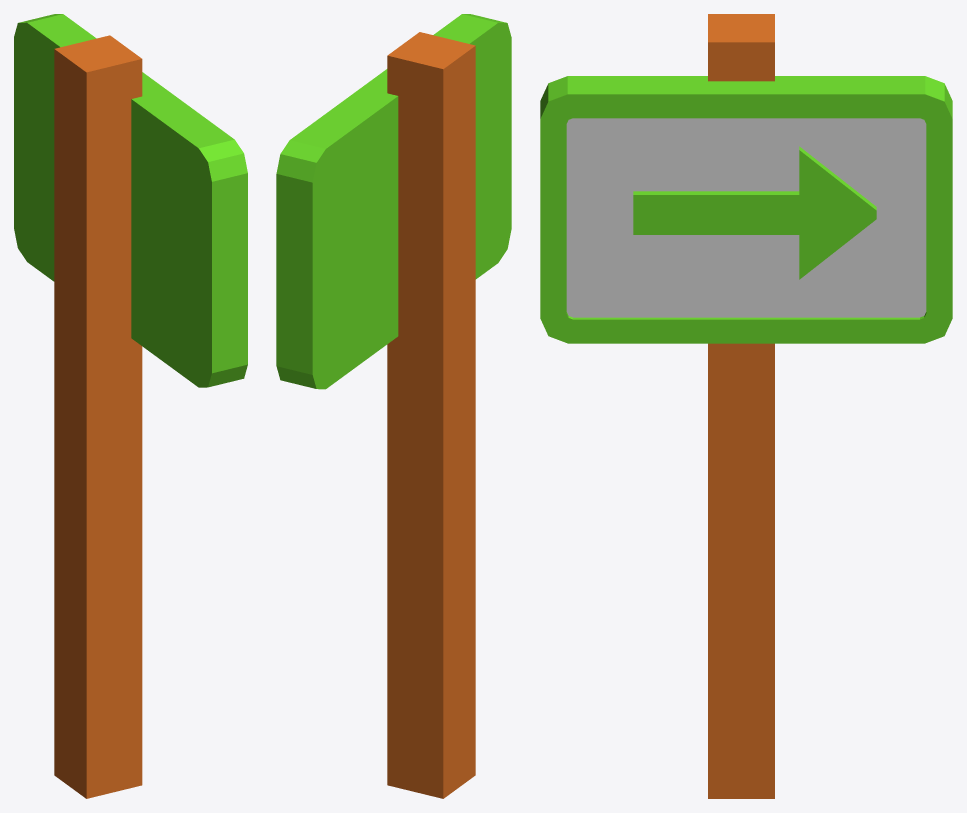
The model's file is sign.fbx.
The picture shows the model from 3 angles, left to right: view 1: azimuth 30°, elevation 25°; view 2: azimuth 150°, elevation 25°; view 3: azimuth 270°, elevation 25°; orthographic projection. The views are drawn at different scales.
Parts seen in each view (by area): view 1: Cube, Cube.001; view 2: Cube, Cube.001; view 3: Cube.001, Cube, Cube.002.
Part boxes in pixels (<box>): Cube: <box>54,35,142,798</box>; Cube.001: <box>14,14,247,387</box>; Cube: <box>387,32,475,798</box>; Cube.001: <box>276,14,511,389</box>; Cube.001: <box>540,76,952,343</box>; Cube: <box>708,14,774,798</box>; Cube.002: <box>633,146,876,279</box>.
Bounding box in the file's own units: 57.89 × 477 × 236.
